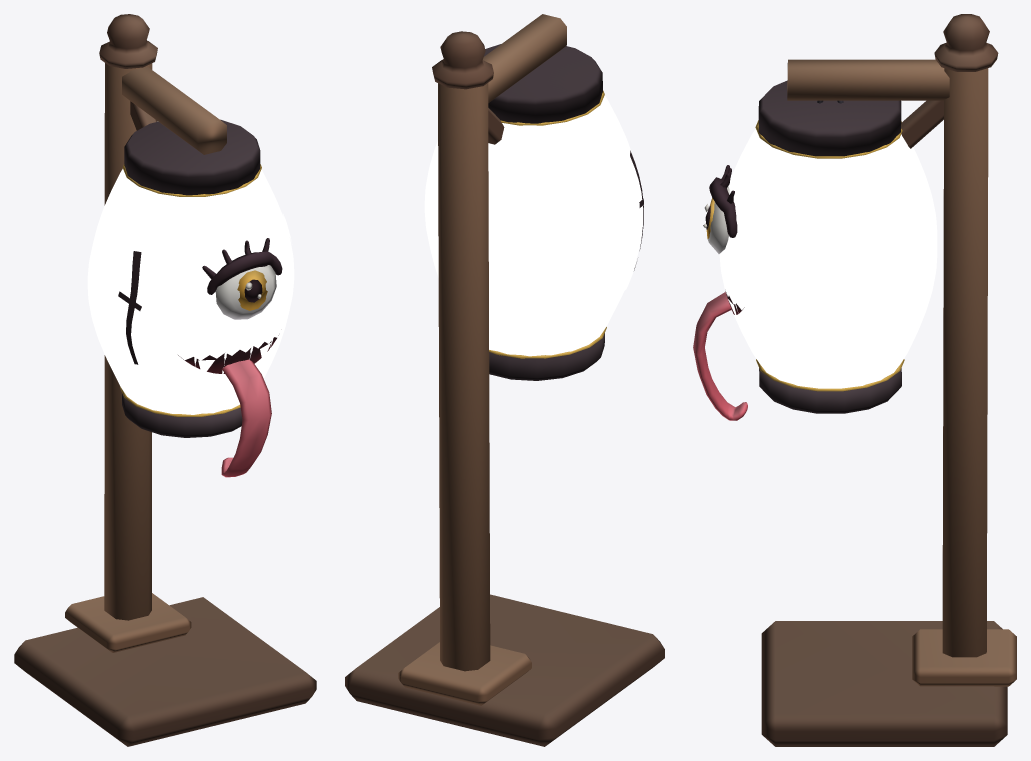
File: furn-yokaiLantern.glb
3 renders of one model, left to right at view 1: azimuth 30°, elevation 25°; view 2: azimuth 150°, elevation 25°; view 3: azimuth 270°, elevation 25°, orthographic. The views are drawn at different scales.
Parts seen in each view (by area): view 1: furn-yokaiLantern; view 2: furn-yokaiLantern; view 3: furn-yokaiLantern.
Part boxes in pixels (box(x1,y1,x2,y2)): furn-yokaiLantern: box(14, 14, 316, 746); furn-yokaiLantern: box(345, 14, 664, 746); furn-yokaiLantern: box(693, 14, 1016, 746).
Bounding box in the file's own units: 0.4001 × 1.23 × 0.5266.
